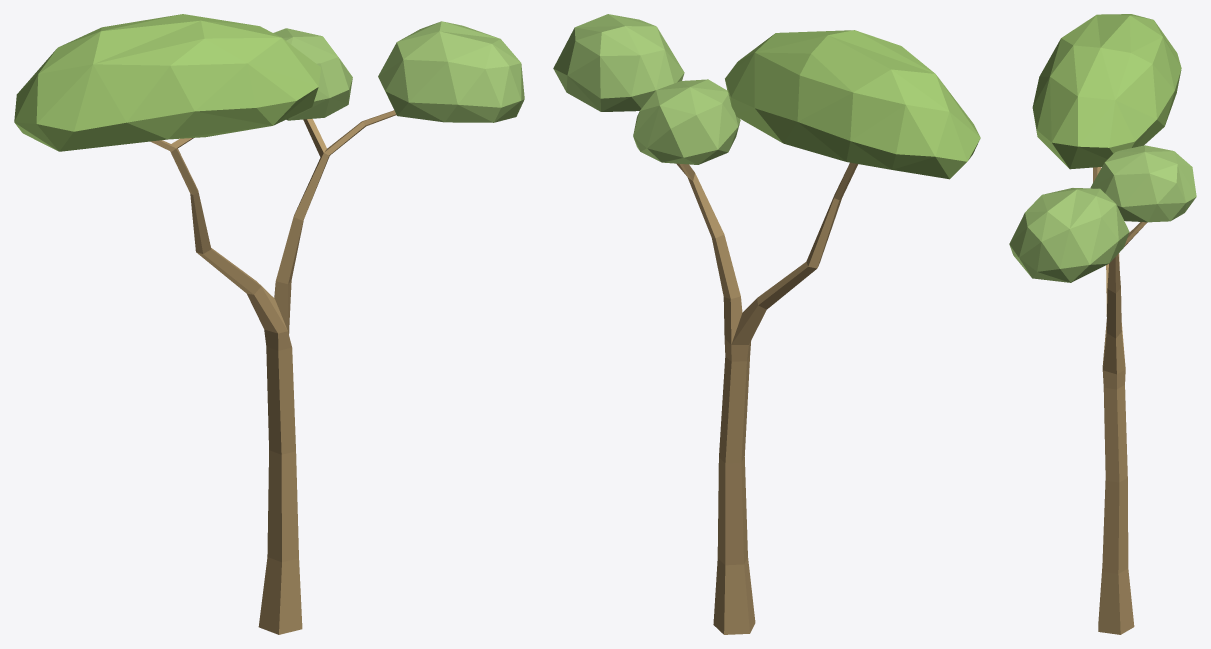
File: Acacia_Tree_s_03_LOD.fbx
The picture shows the model from 3 angles, left to right: view 1: azimuth 30°, elevation 25°; view 2: azimuth 150°, elevation 25°; view 3: azimuth 270°, elevation 25°; orthographic projection. The views are drawn at different scales.
Visible parts, largest first — view 1: Acacia_Tree_s_03_LOD0; view 2: Acacia_Tree_s_03_LOD0; view 3: Acacia_Tree_s_03_LOD0.
Part boxes in pixels (bbox=[...]): Acacia_Tree_s_03_LOD0: bbox=[14, 14, 524, 634]; Acacia_Tree_s_03_LOD0: bbox=[553, 14, 980, 634]; Acacia_Tree_s_03_LOD0: bbox=[1009, 14, 1196, 634].
Size of what is drawn, in the model's own units: 504 by 657 by 206.
